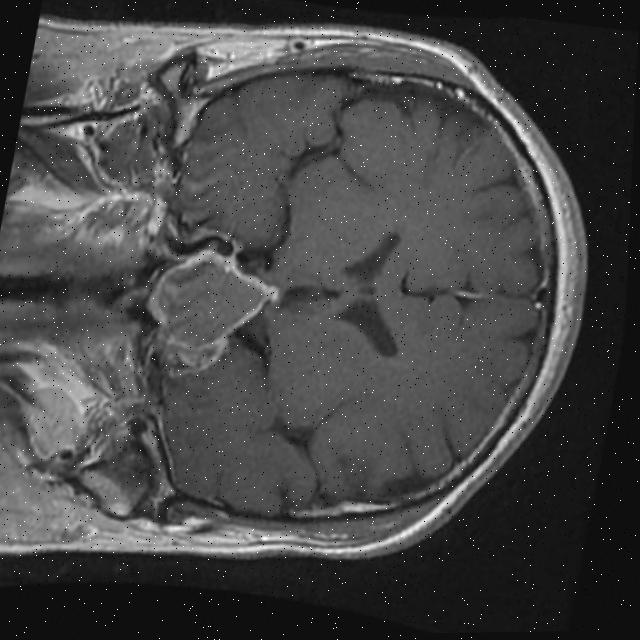Pituitary: (137, 244, 287, 364)
